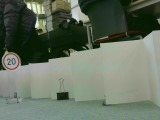speed_20: (1, 50, 22, 72)
